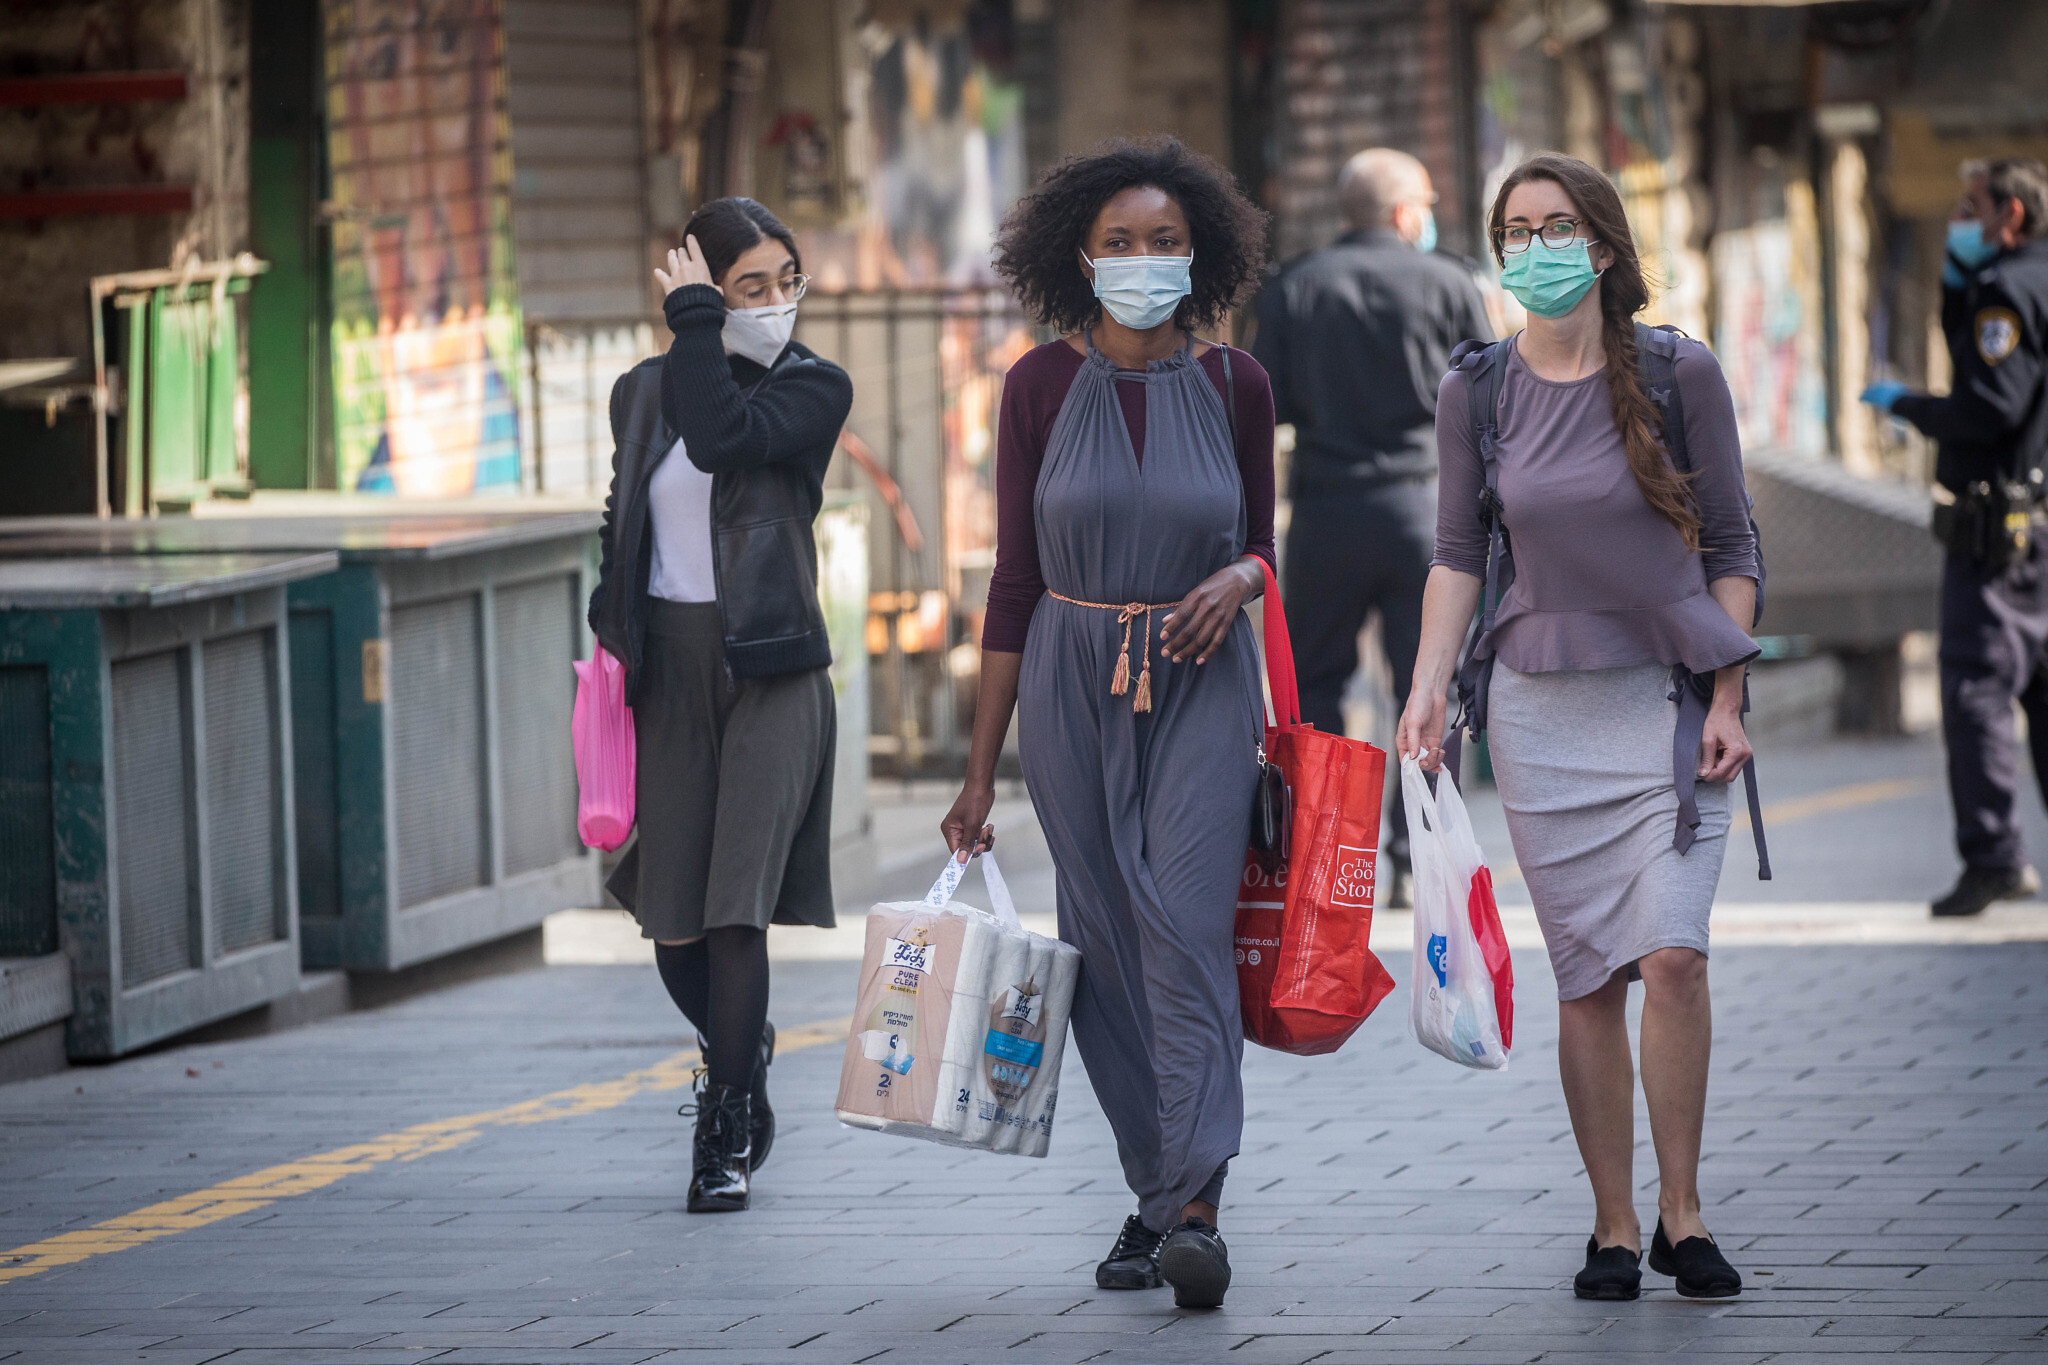Person: (1392, 148, 1806, 1300), (936, 137, 1343, 1296), (540, 178, 881, 1196)
